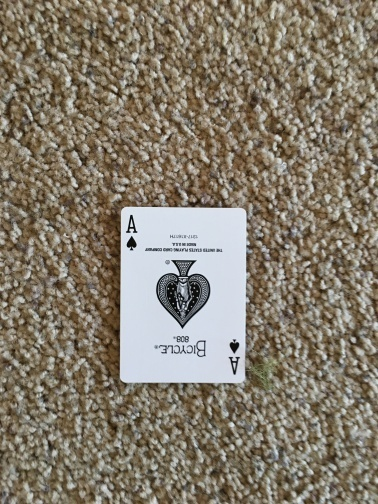ace: (122, 208, 246, 381)
